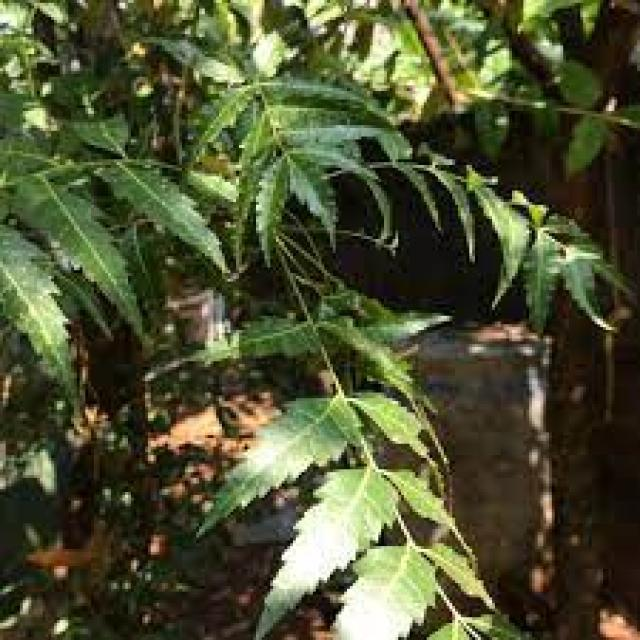Wet: (1, 4, 630, 640)
